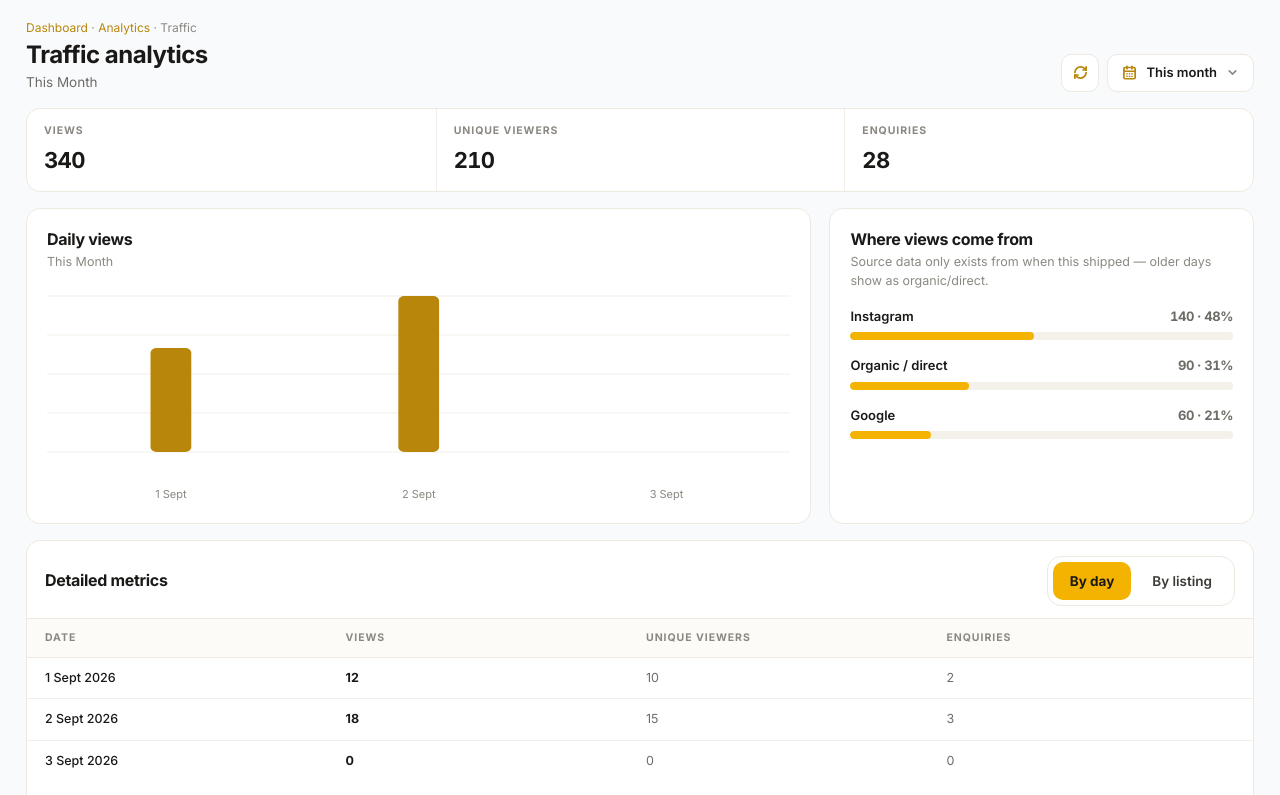
Test: TrafficAnalytics › switches to the by-listing detail table
Check: the text "Detailed metrics" is shown, box [45, 570, 168, 591]
What coordinates should you click on to do the following:
click the tab "By listing"
I would click on:
 (1182, 581)
Its box is [1135, 562, 1229, 600].
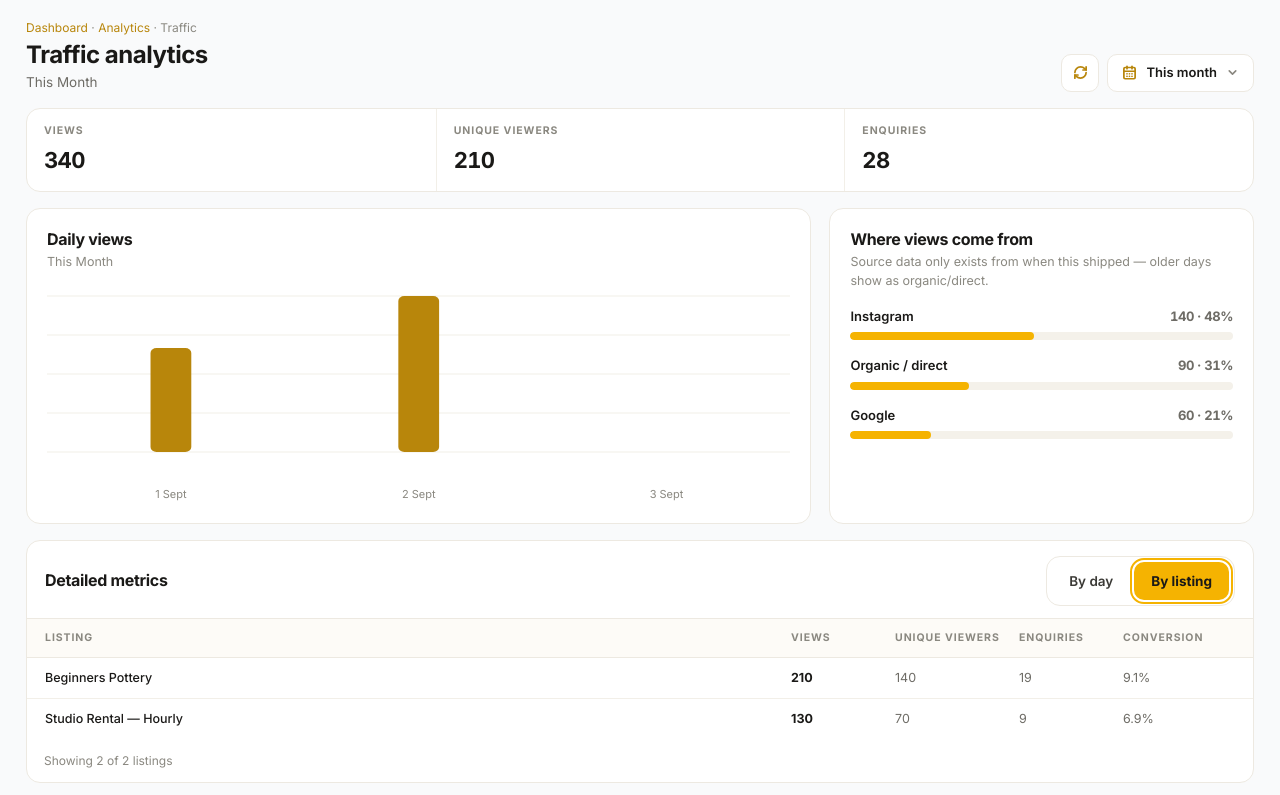
Check: the text "Beginners Pottery" is shown, box [45, 670, 152, 685]
Check: the text "Studio Rental — Hourly" is shown, box [45, 711, 183, 726]
